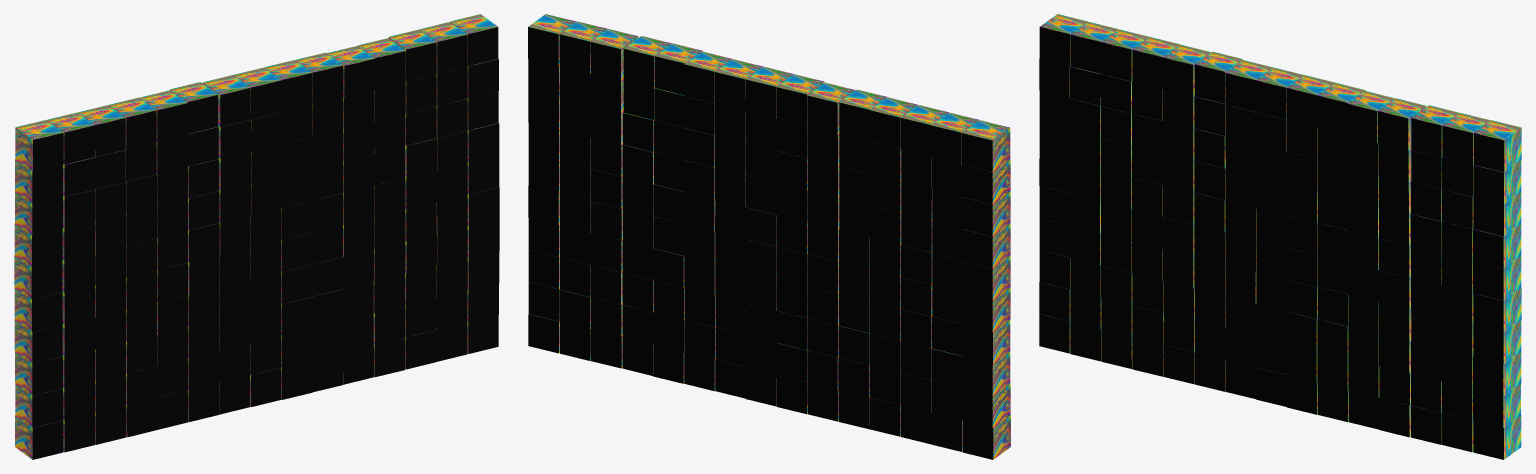
The model's file is kabeban.glb.
3 renders of one model, left to right at view 1: azimuth 30°, elevation 25°; view 2: azimuth 150°, elevation 25°; view 3: azimuth 330°, elevation 25°, orthographic.
Visible parts, largest first — view 1: Cube.164, Cube.158, Cube.152, Cube.299, Cube.239, Cube.224, Cube.254, Cube.209, Cube.284, Cube.150, Cube.163, Cube.161 (+138 smaller); view 2: Cube.164, Cube.152, Cube.159, Cube.179, Cube.224, Cube.209, Cube.194, Cube.158, Cube.254, Cube.161, Cube.239, Cube.299 (+138 smaller); view 3: Cube.150, Cube.153, Cube.160, Cube.195, Cube.165, Cube.225, Cube.210, Cube.159, Cube.180, Cube.240, Cube.255, Cube.285 (+138 smaller).
Part boxes in pixels (x1,y1,x2,y2): Cube.164: [15, 120, 63, 171]; Cube.158: [202, 75, 250, 126]; Cube.152: [388, 29, 436, 81]; Cube.299: [15, 415, 63, 459]; Cube.239: [14, 287, 62, 331]; Cube.224: [14, 255, 62, 299]; Cube.254: [14, 319, 62, 363]; Cube.209: [14, 223, 62, 267]; Cube.284: [15, 383, 63, 427]; Cube.150: [450, 14, 498, 66]; Cube.163: [47, 112, 94, 164]; Cube.161: [108, 97, 156, 149]; Cube.164: [962, 120, 1010, 172]; Cube.152: [590, 29, 638, 80]; Cube.159: [807, 82, 855, 134]; Cube.179: [962, 160, 1010, 204]; Cube.224: [962, 256, 1010, 300]; Cube.209: [962, 224, 1010, 268]; Cube.194: [962, 192, 1010, 236]; Cube.158: [776, 74, 824, 126]; Cube.254: [962, 320, 1010, 364]; Cube.161: [869, 97, 917, 149]; Cube.239: [962, 288, 1010, 332]; Cube.299: [962, 415, 1010, 459]; Cube.150: [1473, 120, 1521, 172]; Cube.153: [1378, 98, 1426, 150]; Cube.160: [1162, 44, 1210, 96]; Cube.195: [1473, 224, 1521, 268]; Cube.165: [1473, 160, 1521, 204]; Cube.225: [1473, 288, 1521, 332]; Cube.210: [1473, 256, 1521, 300]; Cube.159: [1194, 51, 1242, 103]; Cube.180: [1473, 192, 1521, 236]; Cube.240: [1473, 320, 1521, 364]; Cube.255: [1473, 352, 1521, 396]; Cube.285: [1473, 415, 1521, 459].
Bounding box in the file's own units: 12.95 × 8.48 × 0.9701.
Materials: 2 (1 with a texture image).
